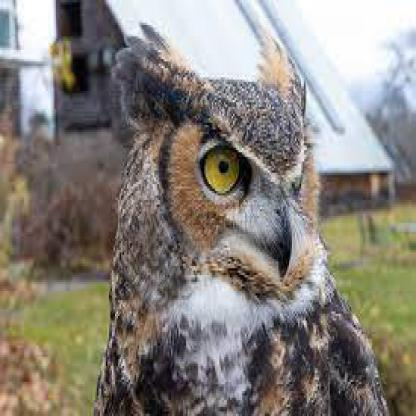owl: (66, 16, 414, 414)
